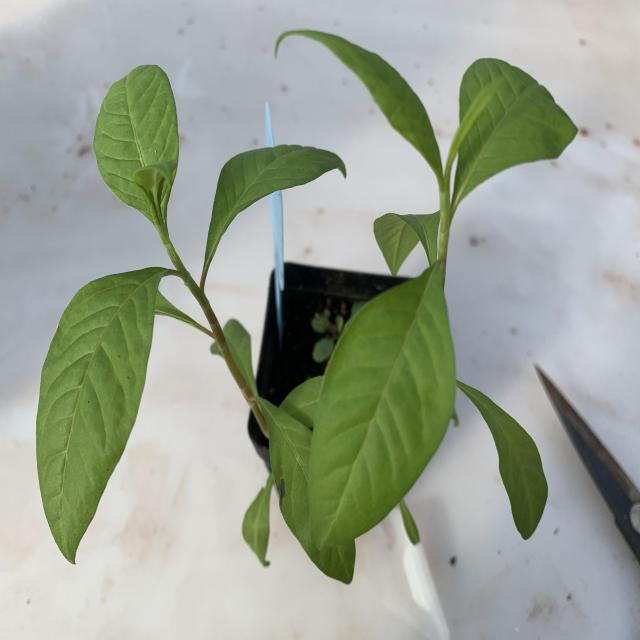white_smart_weed: (37, 31, 339, 578), (328, 7, 555, 552)
